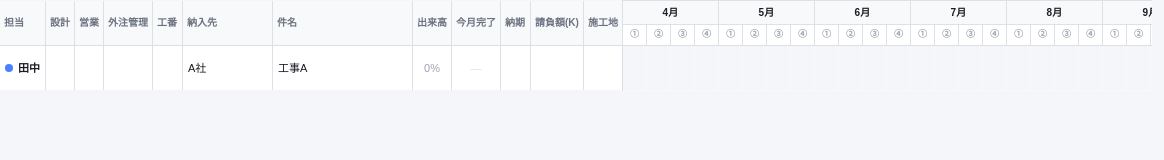
it: GanttChart › バー作成（INSERT） › セルを2回クリックするとINSERTが呼ばれ仮IDが本物IDに差し替わる
# 最初のクリック: 選択開始
Click the 1st cell with class "gantt-cell": (634, 68) 622,45 -> 646,90
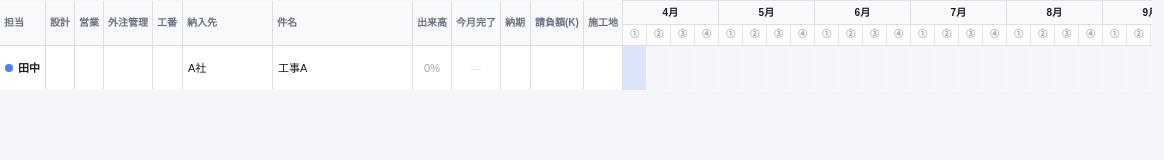
# 2回目のクリック: バー作成
Click the 3rd cell with class "gantt-cell": (682, 68) 670,45 -> 694,90
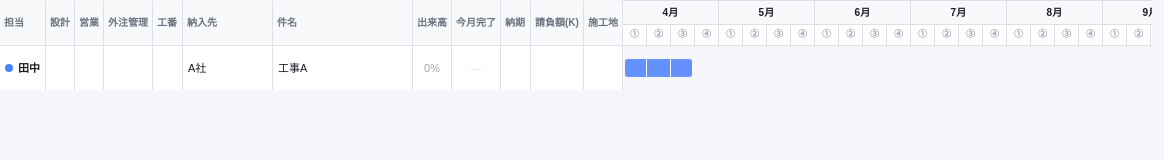
Check: the 1st element with class "gantt-bar" is shown, box 625,58 -> 646,76
